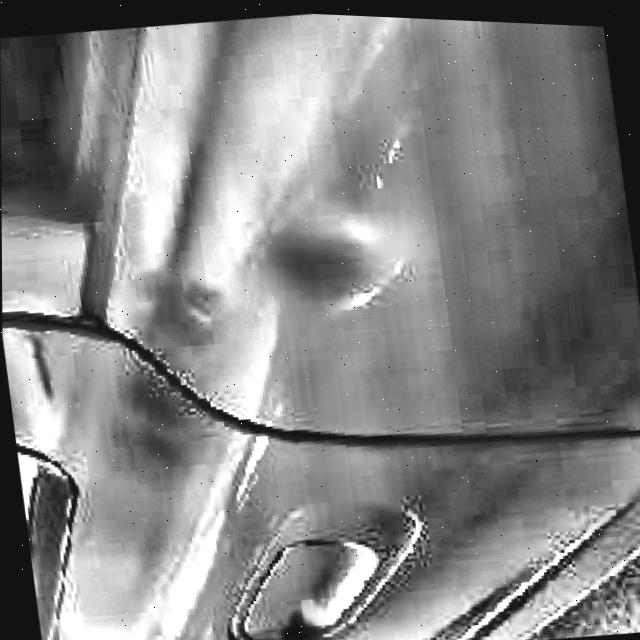door_dent: (251, 190, 412, 324)
